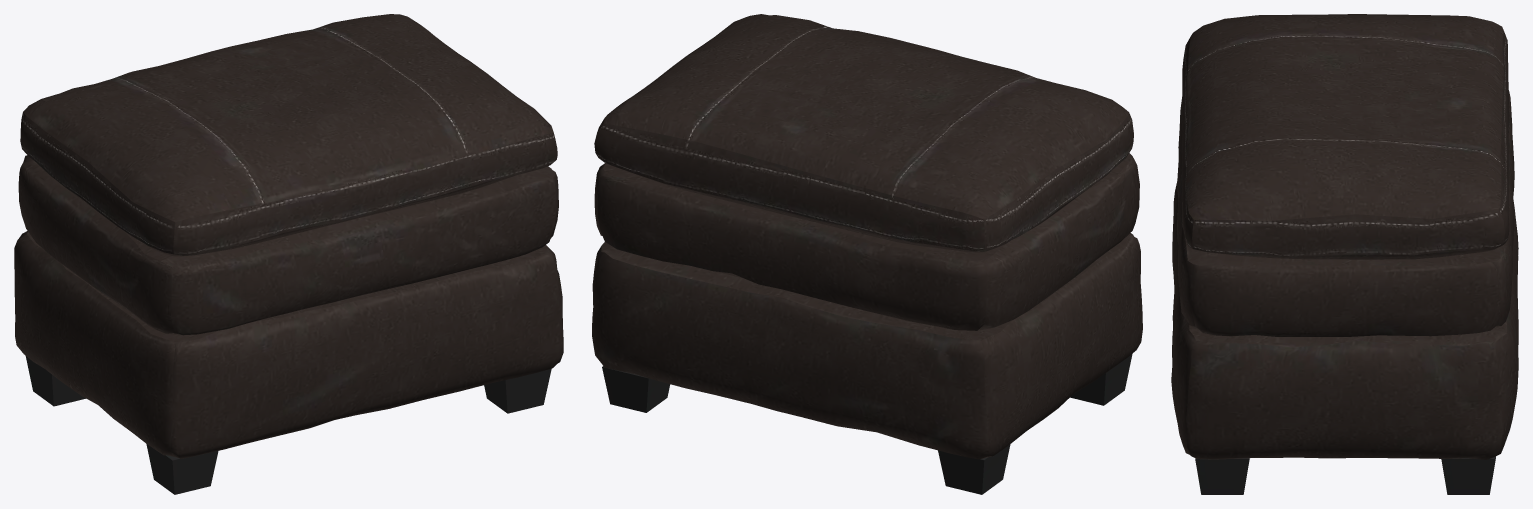
The model's file is Ottoman1.gltf.
3 renders of one model, left to right at view 1: azimuth 30°, elevation 25°; view 2: azimuth 150°, elevation 25°; view 3: azimuth 270°, elevation 25°, orthographic.
Visible parts, largest first — view 1: Ottoman_01; view 2: Ottoman_01; view 3: Ottoman_01.
Part boxes in pixels (x1,y1,x2,y2): Ottoman_01: [14, 14, 563, 494]; Ottoman_01: [592, 14, 1142, 494]; Ottoman_01: [1171, 14, 1518, 494].
Bounding box in the file's own units: 0.8846 × 0.6243 × 0.6211.
1 material, 1 textured.
